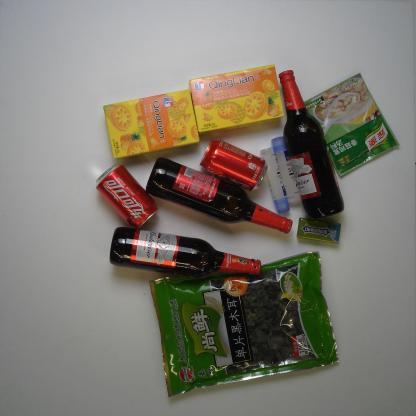Alcohol: (146, 157, 292, 234), (280, 69, 344, 220), (109, 227, 262, 278)
Dessert: (103, 89, 201, 159), (189, 65, 284, 133)
Dried Food: (149, 251, 340, 397)
Drink: (95, 164, 158, 227), (200, 138, 268, 191)
Gum: (296, 218, 342, 245)
Seasoner: (302, 74, 401, 178)
Stationery: (272, 136, 305, 206), (261, 146, 291, 214)
